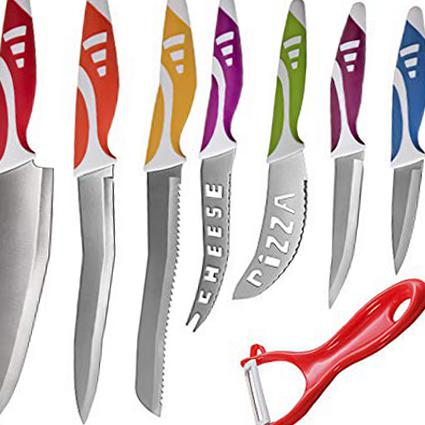knife: (1, 1, 52, 413), (73, 1, 120, 424), (329, 1, 368, 308), (389, 7, 425, 275)
